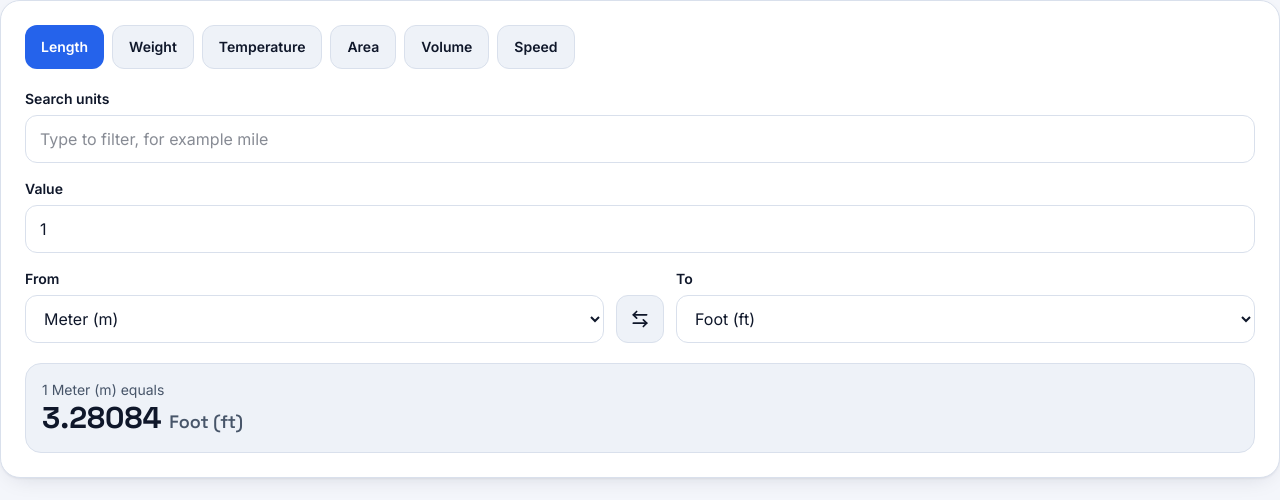
Scenario: tools › unit tool flags a temperature below absolute zero
Click the tab "Temperature": (262, 47) x1=202 y1=25 x2=322 y2=69
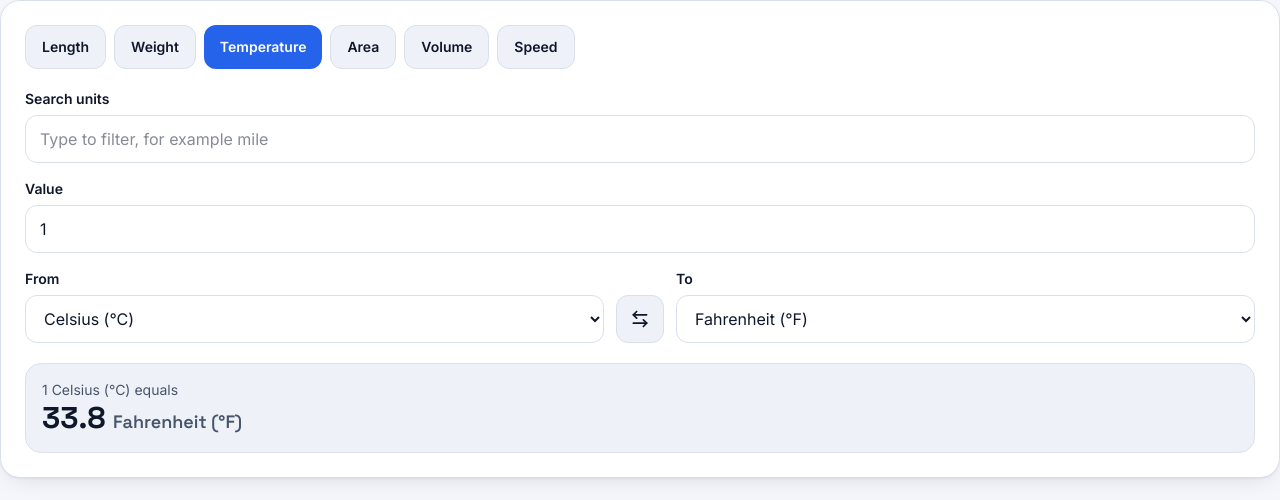
In the field labelled "Value": (640, 229) x1=25 y1=205 x2=1255 y2=253, type "-300"
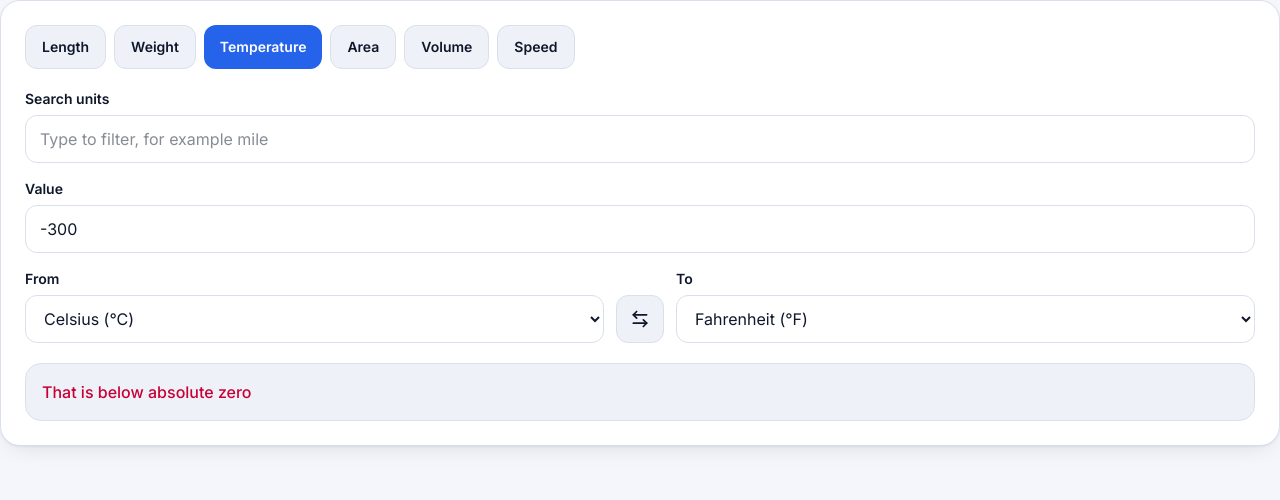
Check: the text "below absolute zero" is shown, box x1=42 y1=382 x2=252 y2=402
